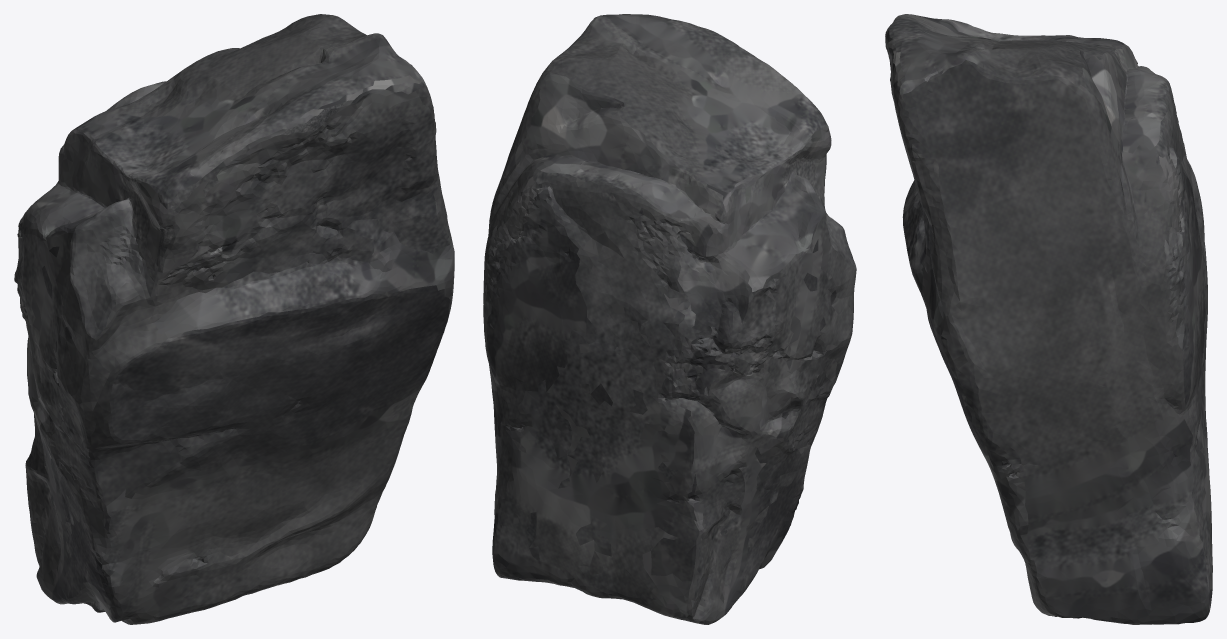
File: world_C2.obj
3 renders of one model, left to right at view 1: azimuth 30°, elevation 25°; view 2: azimuth 150°, elevation 25°; view 3: azimuth 270°, elevation 25°, orthographic. The views are drawn at different scales.
Parts seen in each view (by area): view 1: geometry_0; view 2: geometry_0; view 3: geometry_0.
Part boxes in pixels (left/top/right/bottom): geometry_0: left=14, top=14, right=454, bottom=624; geometry_0: left=483, top=14, right=856, bottom=624; geometry_0: left=885, top=14, right=1212, bottom=624.
Size of the model in its own units: 0.7327 by 1.09 by 0.5576.
